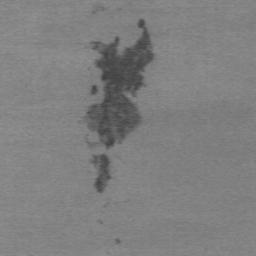Iron scale compression: (78, 19, 154, 149), (93, 154, 111, 194)
